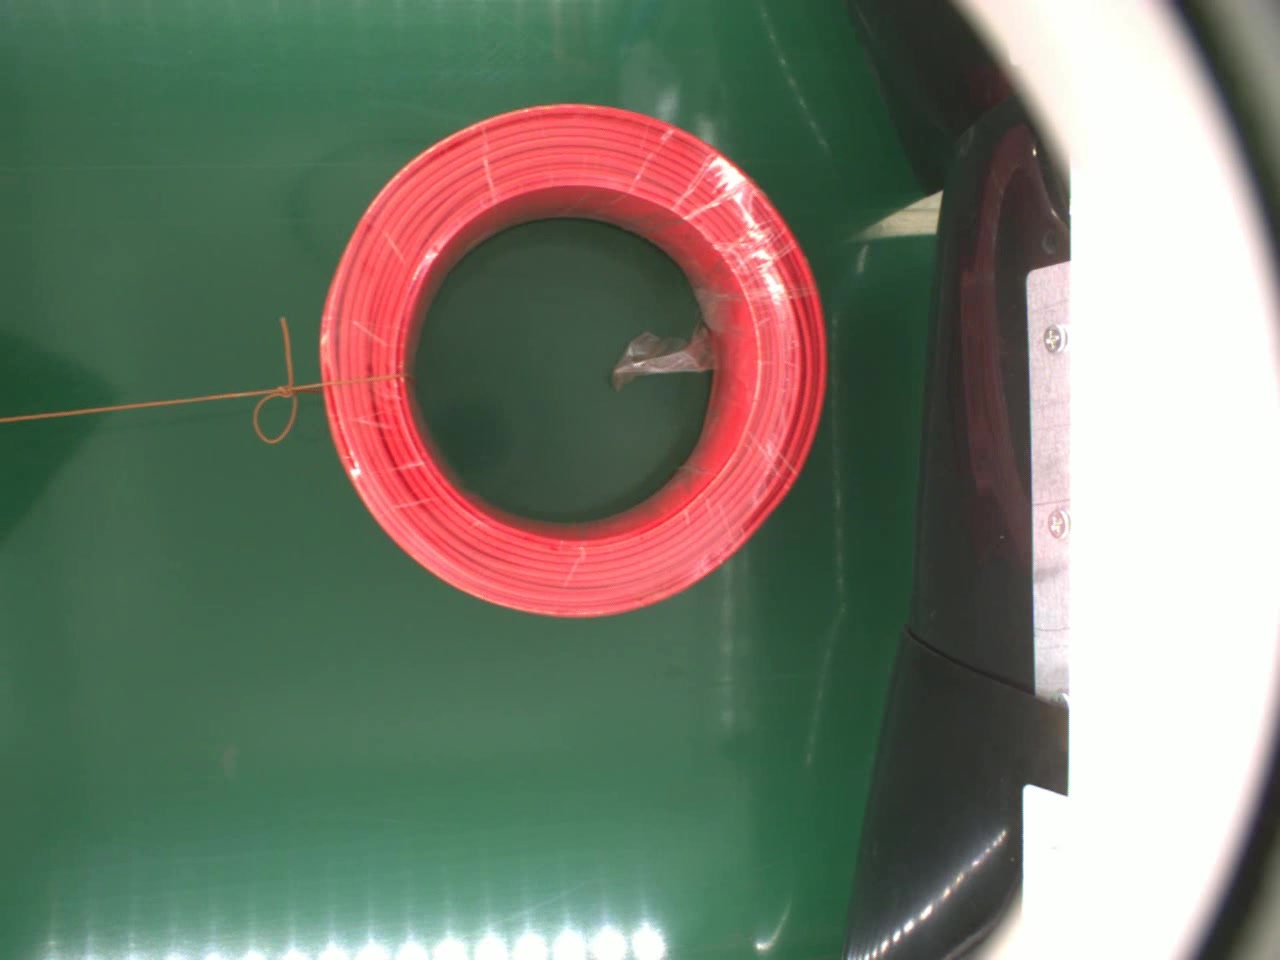red: (306, 101, 833, 626)
